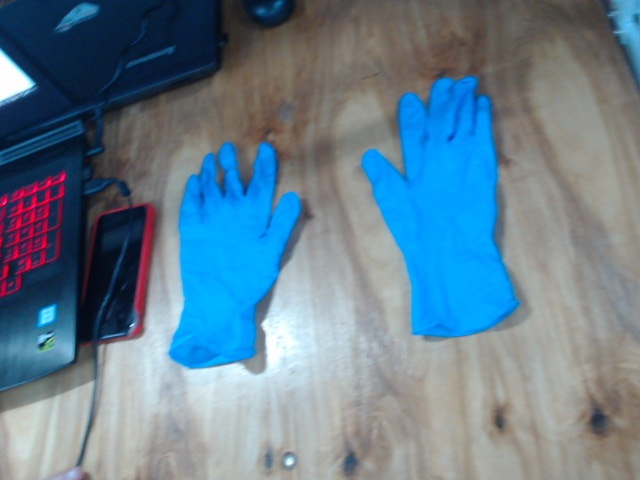medical_glove: (362, 78, 519, 338), (166, 142, 301, 366)
